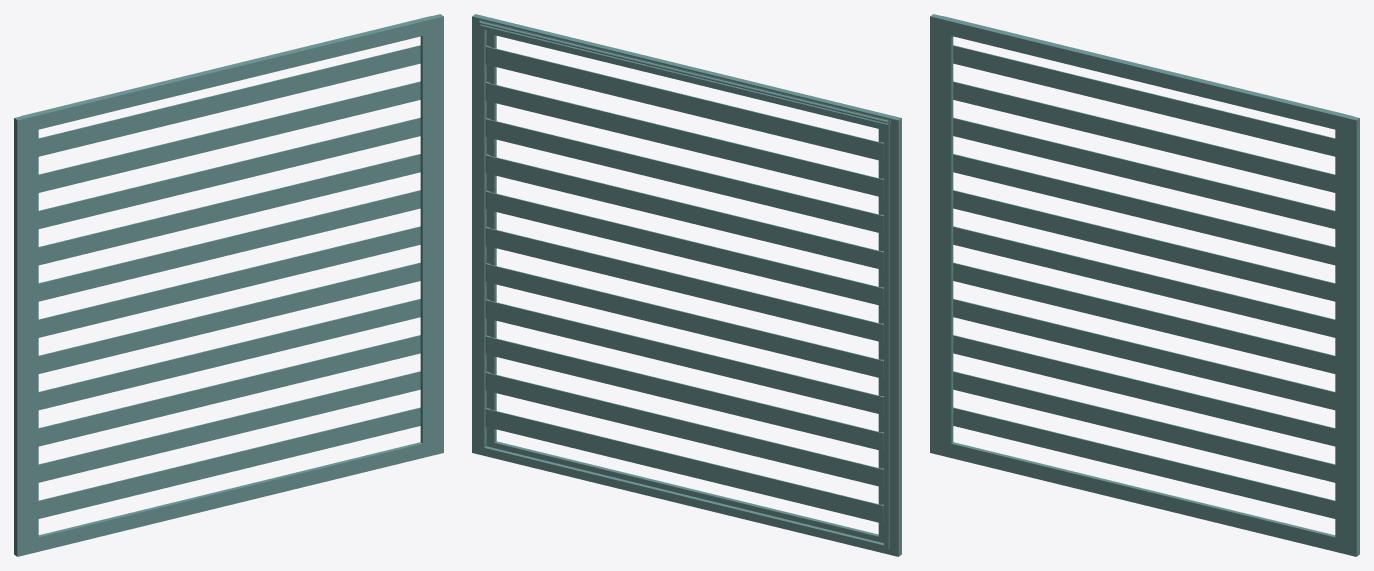
3 views of the same model, side by side, from view 1: azimuth 30°, elevation 25°; view 2: azimuth 150°, elevation 25°; view 3: azimuth 330°, elevation 25° (orthographic).
Parts seen in each view (by area): view 1: zebra_blinds; view 2: zebra_blinds; view 3: zebra_blinds.
Boxes of the visible parts, x1,y1,x2,y2 form: zebra_blinds: (14, 14, 443, 556); zebra_blinds: (472, 14, 901, 556); zebra_blinds: (930, 14, 1359, 556).
Bounding box in the file's own units: 0.8506 × 0.832 × 0.0186.
